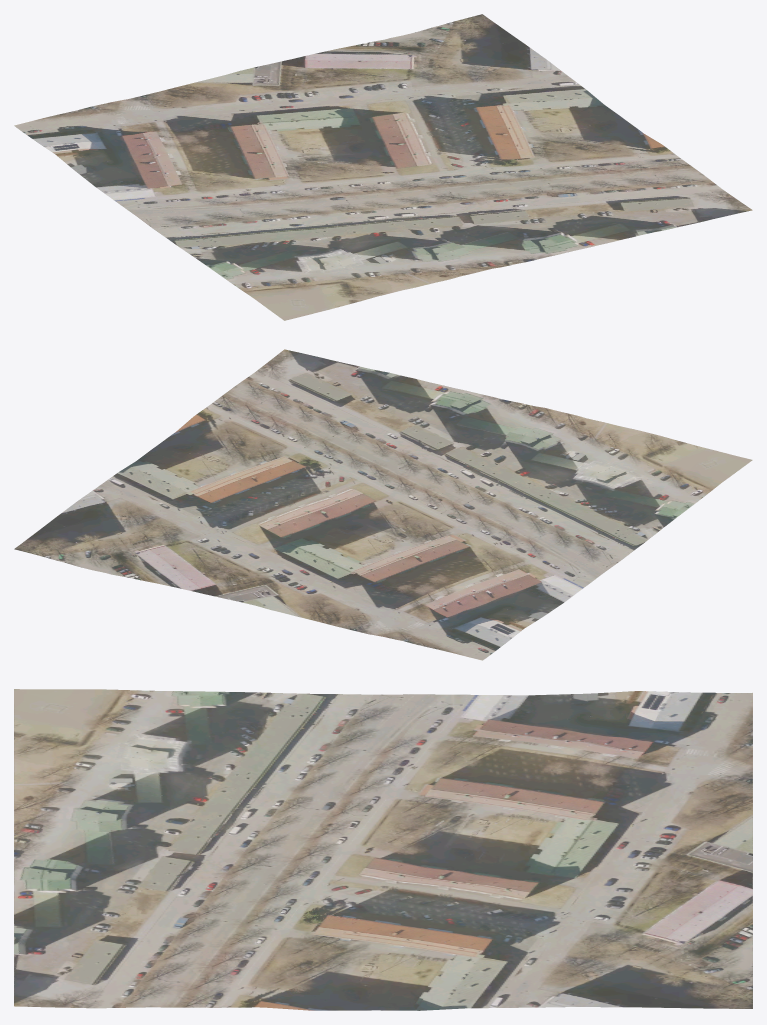
The model's file is CM_Terrain_24489230_6820818.fbx.
3 views of the same model, one above another, from view 1: azimuth 30°, elevation 25°; view 2: azimuth 150°, elevation 25°; view 3: azimuth 270°, elevation 25° (orthographic). The views are drawn at different scales.
Parts seen in each view (by area): view 1: CM_Terrain_24489230_6820818_LOD0; view 2: CM_Terrain_24489230_6820818_LOD0; view 3: CM_Terrain_24489230_6820818_LOD0.
Part boxes in pixels (x1,y1,x2,y2): CM_Terrain_24489230_6820818_LOD0: [14, 14, 752, 320]; CM_Terrain_24489230_6820818_LOD0: [14, 349, 752, 660]; CM_Terrain_24489230_6820818_LOD0: [14, 689, 752, 1010].
Size of what is drawn, in the model's own units: 205 by 3.9 by 205.
